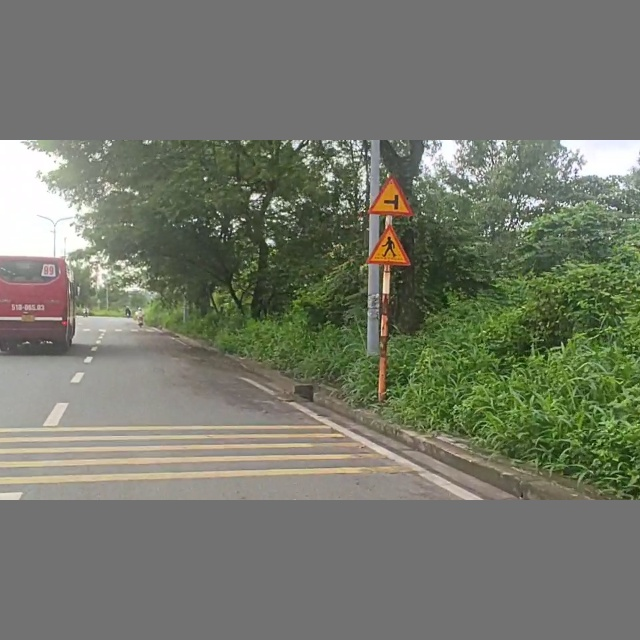W.205c: (370, 173, 425, 217)
W.224: (367, 223, 416, 268)
